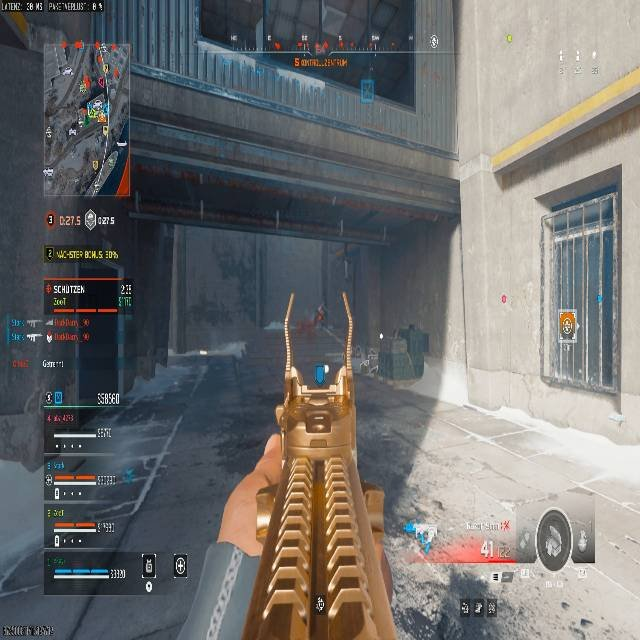player: (315, 304, 326, 325)
